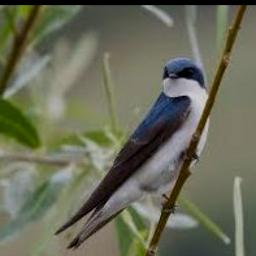Swallow: (55, 57, 211, 250)
